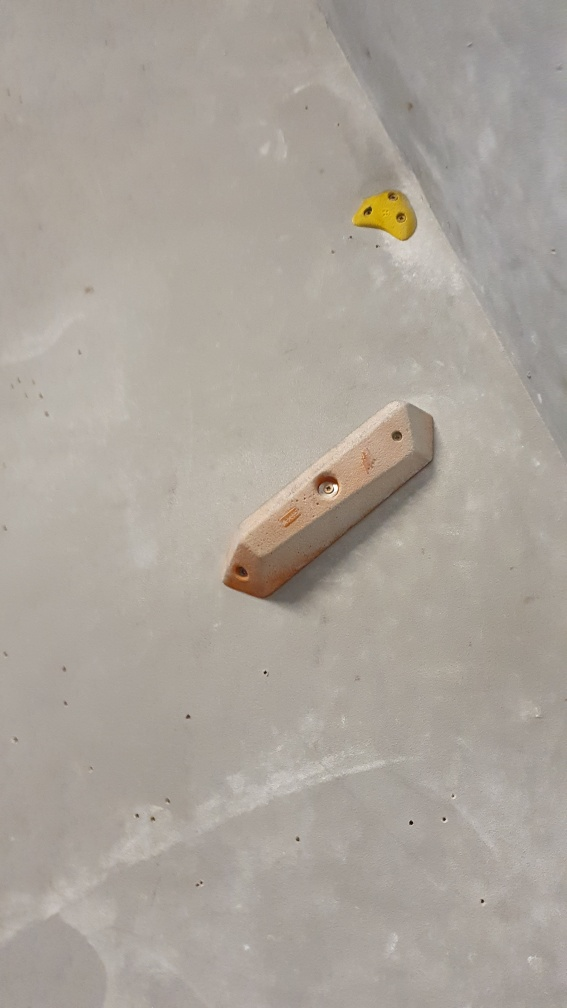Pinch: (218, 397, 437, 603)
